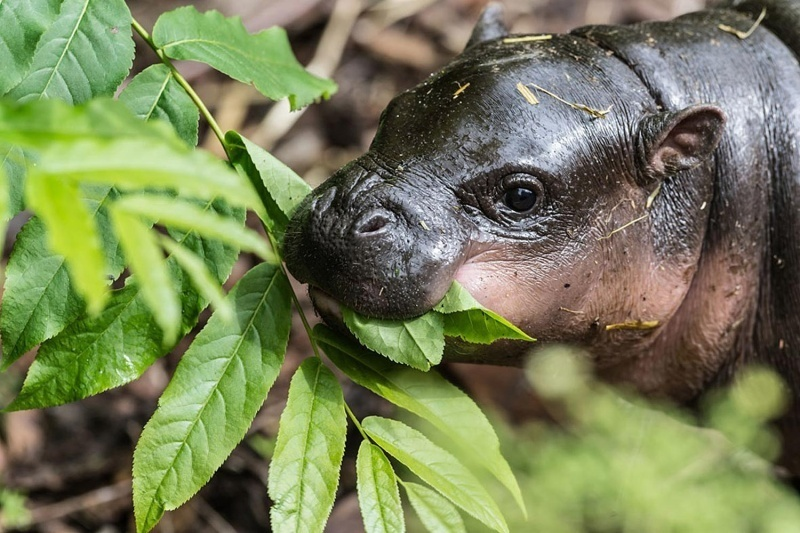hipopotamo: (280, 3, 800, 408)
